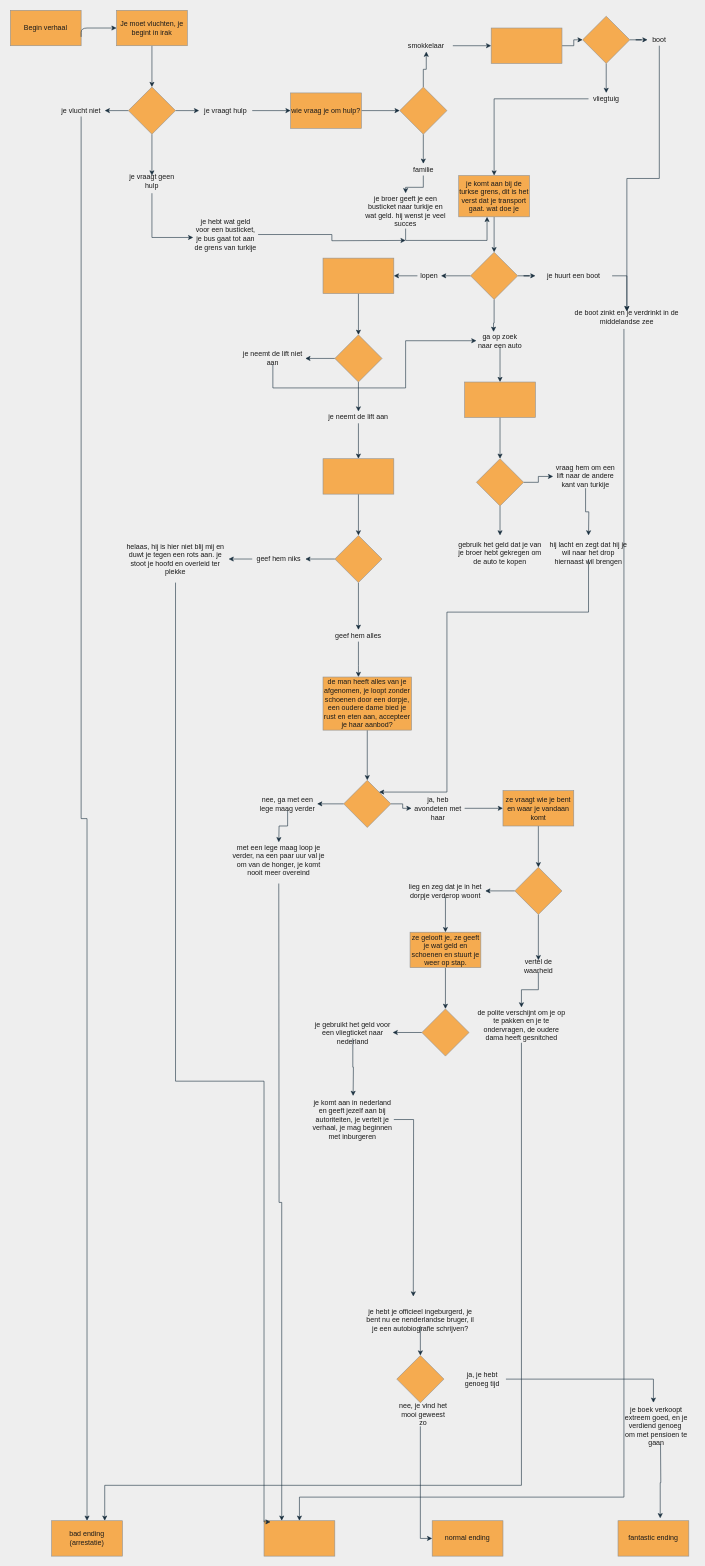
Some shapes in this 705 by 1566 pixel diagram are drawn without their labels. The shapes that lost their labels are listed below. From the top down, each one's centre as x and y in pixels, then its label:
At [526,45]: "hoe wil je gesmokkeld worden".
At [358,276]: "je loopt langs de weg, iemand bied je een lift aan".
At [499,399]: "iemand ziet je een auto bekijken hij zegt dat de auto van hem is,".
At [358,476]: "de man blijkt niet vriendelijk en eist je bezitingen".
At [299,1538]: "dead ending".
